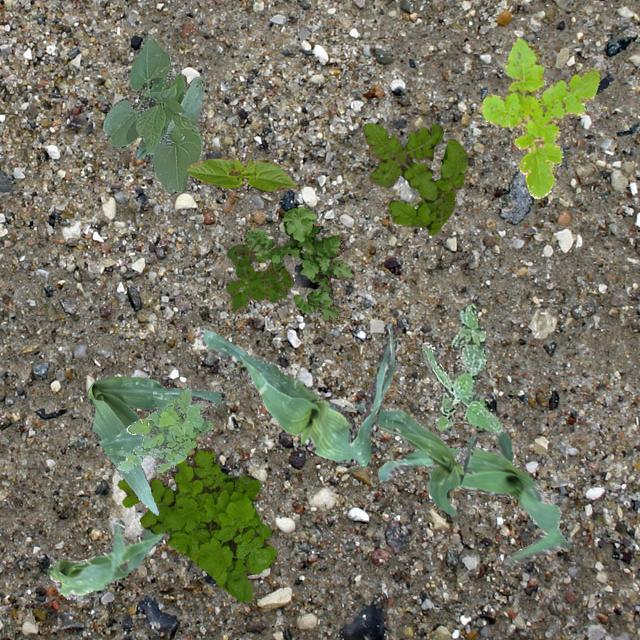crop: (194, 320, 398, 464), (376, 430, 570, 564), (88, 376, 220, 514), (102, 34, 204, 192), (46, 482, 176, 598), (354, 404, 476, 516), (186, 156, 296, 190)
weed: (116, 446, 276, 602), (479, 36, 598, 198), (242, 205, 354, 322), (362, 122, 468, 234), (421, 303, 502, 432), (115, 384, 212, 472), (225, 242, 292, 312)
